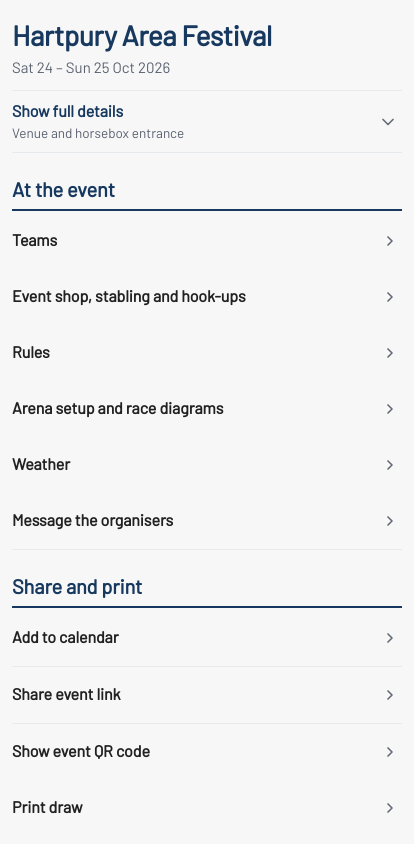
Test: DetailsTab horsebox entrance › gives the gate’s directions once, inside Show full details after the venue rows, with every map link
The image size is (414, 844).
Click the button "Show full details Venue and horsebox entrance": click(68, 111) [12,91,402,152]
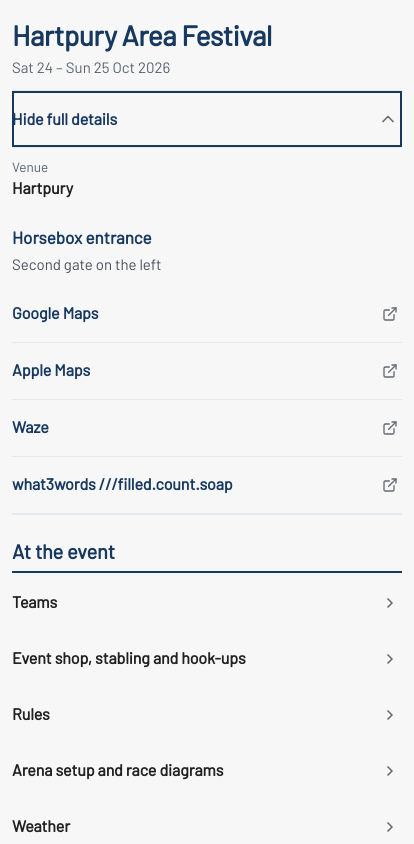
expect the heading "Horsebox entrance" is shown: met, box [12,227,152,247]
expect the text "Second gate on the left" is shown once: met, box [12,255,162,273]
expect the text "what3words ///filled.count.soap" is shown once: met, box [12,474,233,493]
